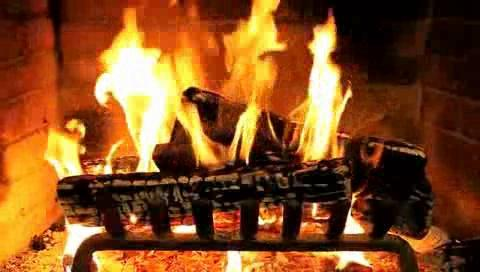fire: (10, 3, 479, 190)
